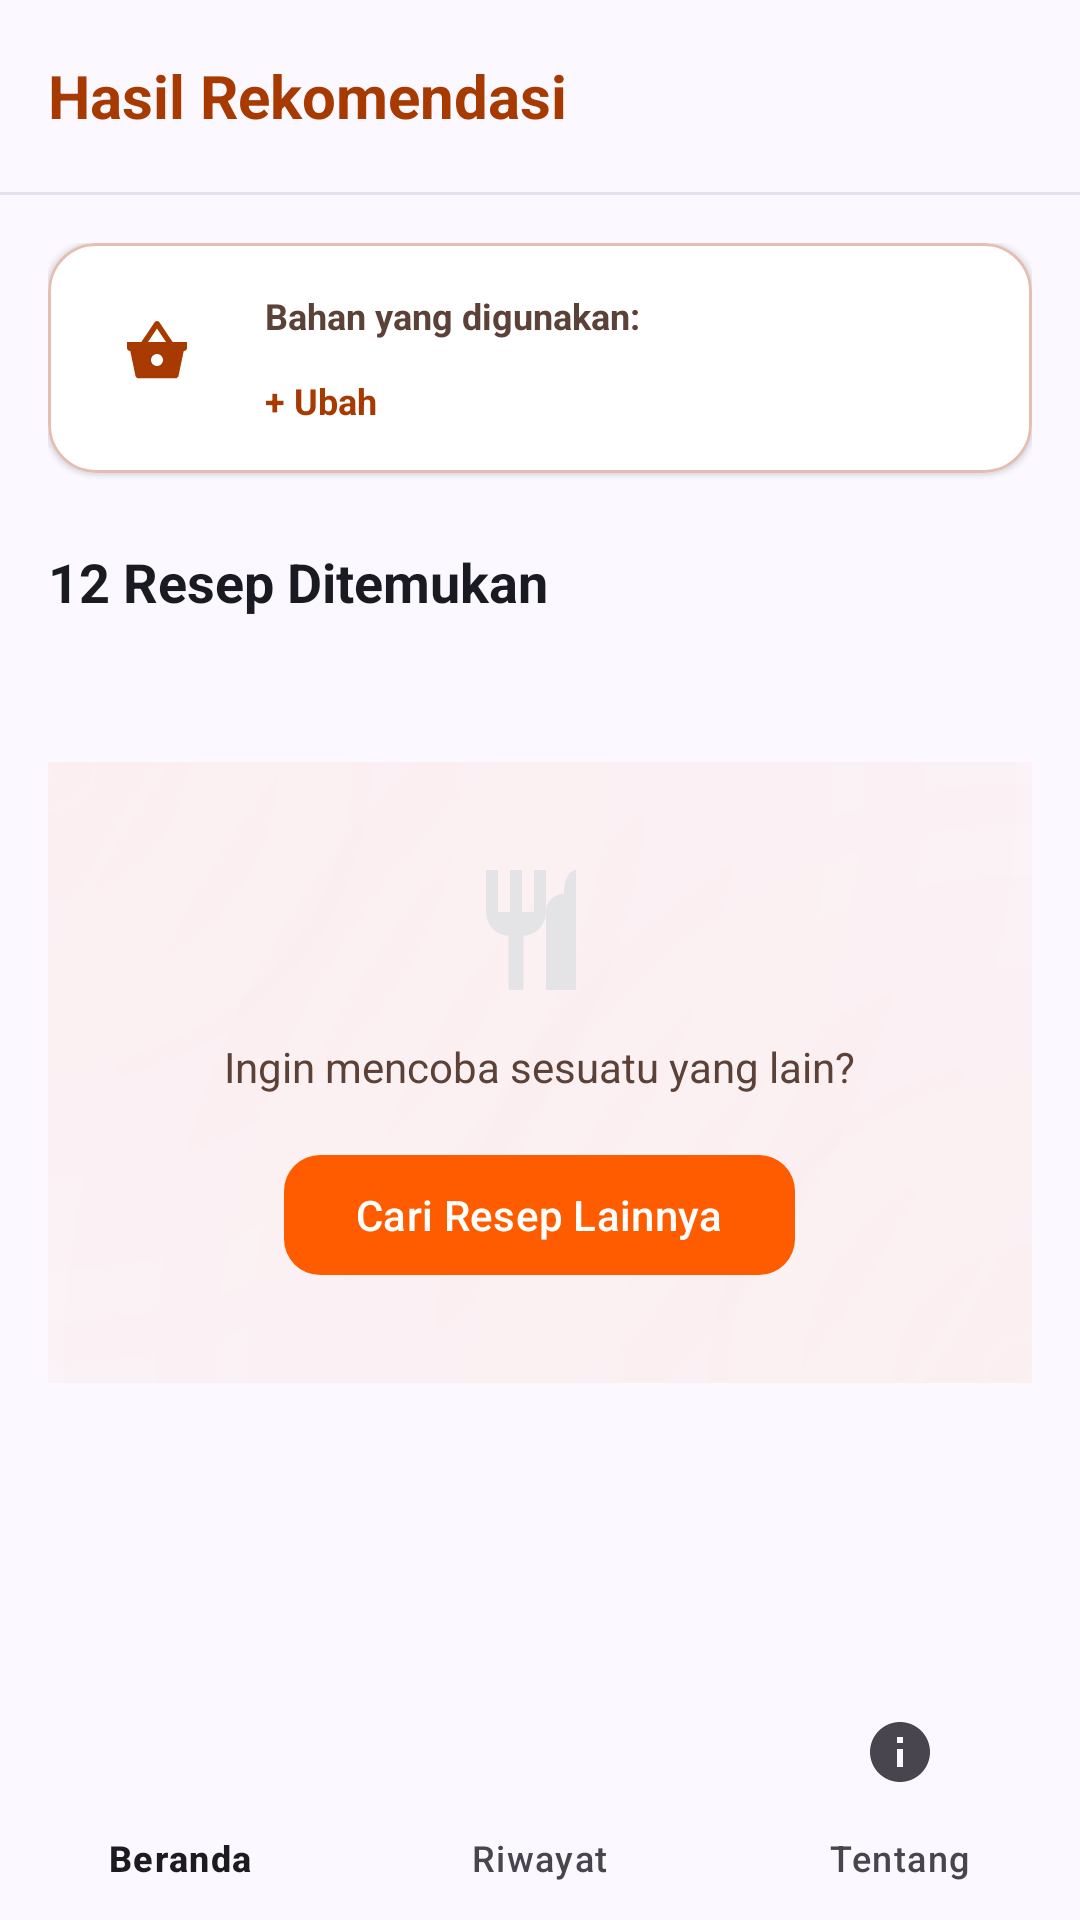

Locate icon controls on the screen. Image size 1080x1920, boxes as (x1, y1, x2, y2).
shopping basket: (127, 321, 187, 379)
